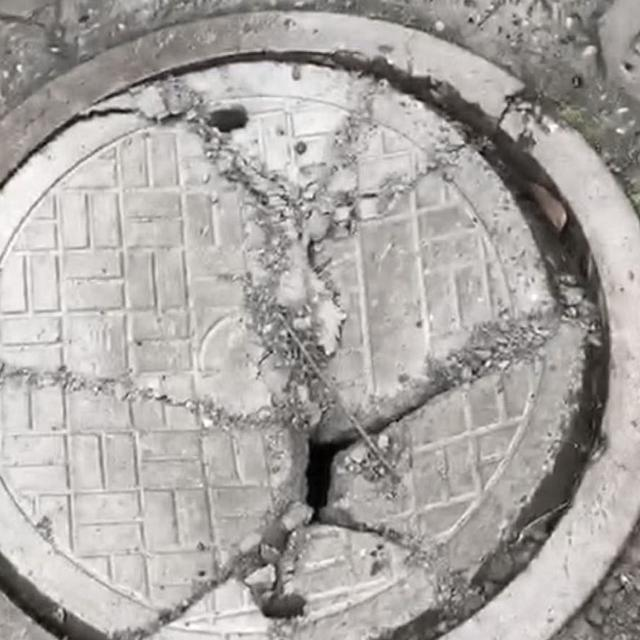broke: (0, 49, 612, 640)
